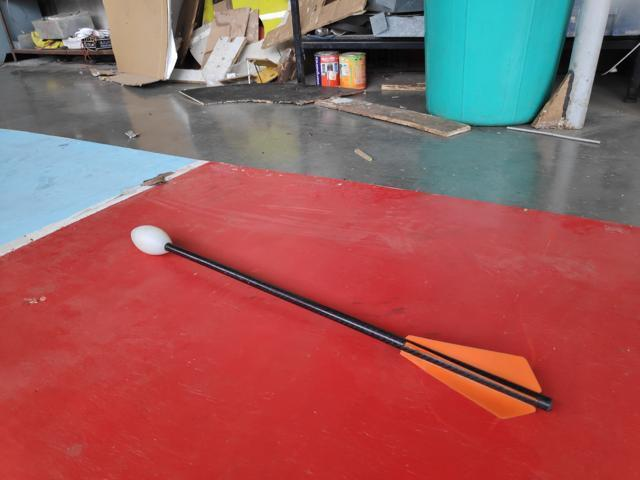Head: (128, 222, 175, 259)
Tail: (393, 331, 554, 421)
